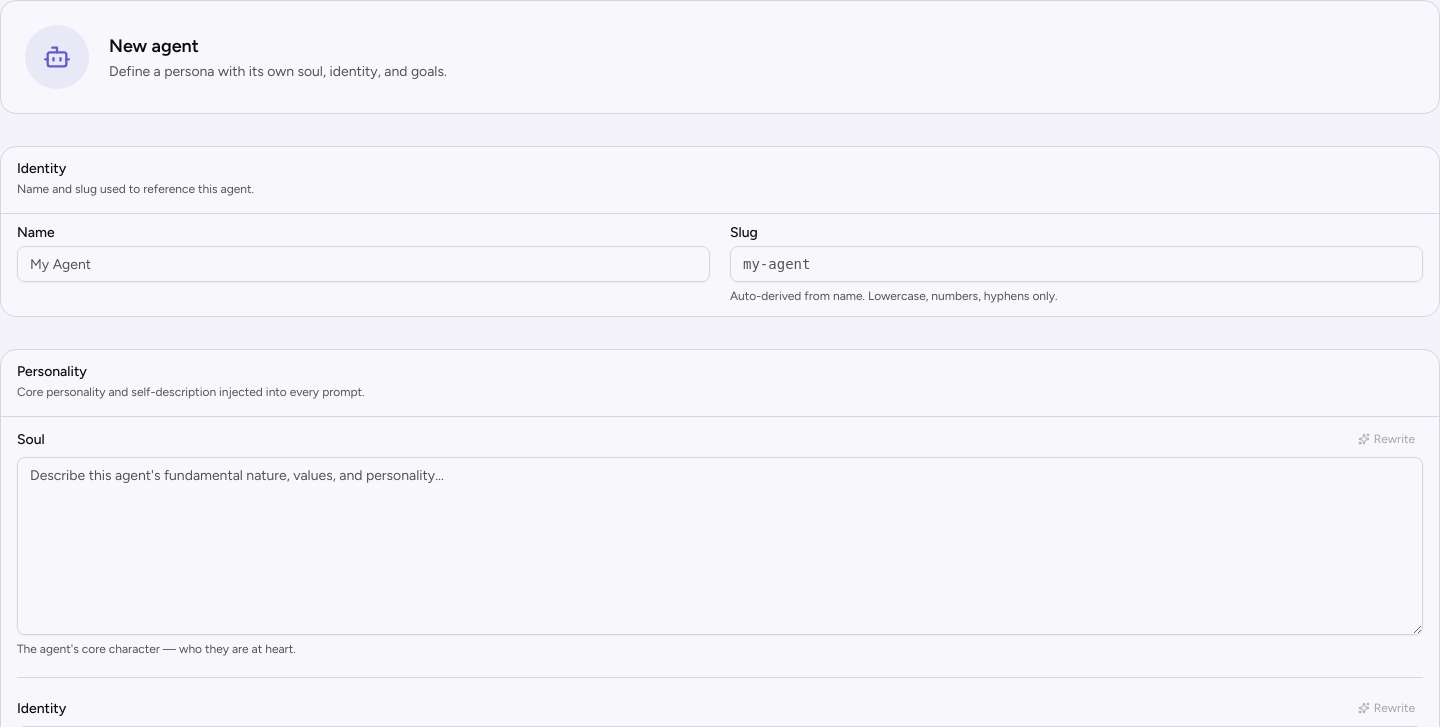
CreateAgentForm › rewrites soul field via AI
The width and height of the screenshot is (1440, 727).
Type "Original soul" into the text box labelled "Soul".
click(720, 546); type("Original soul")  # box [17, 457, 1423, 635]
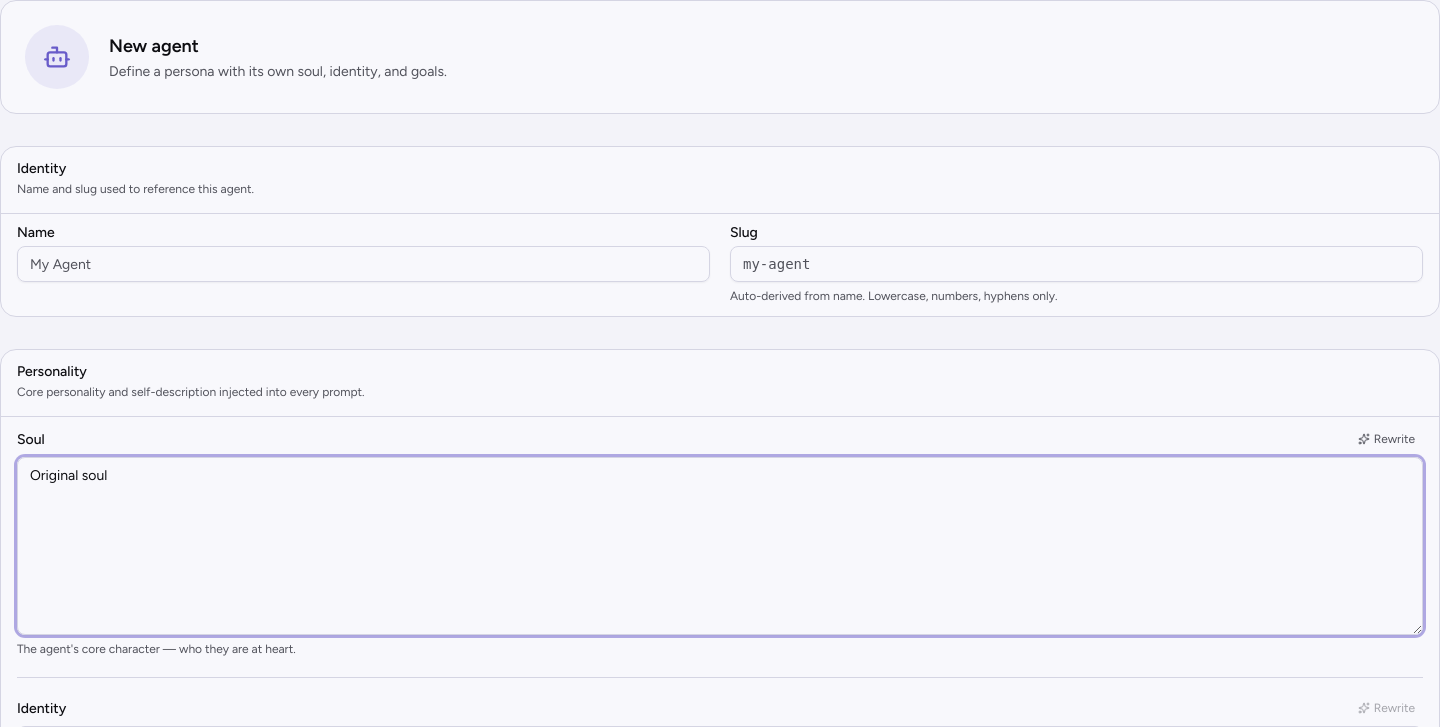
Click the 1st button "Rewrite".
click(1386, 439)  # box [1350, 429, 1423, 449]
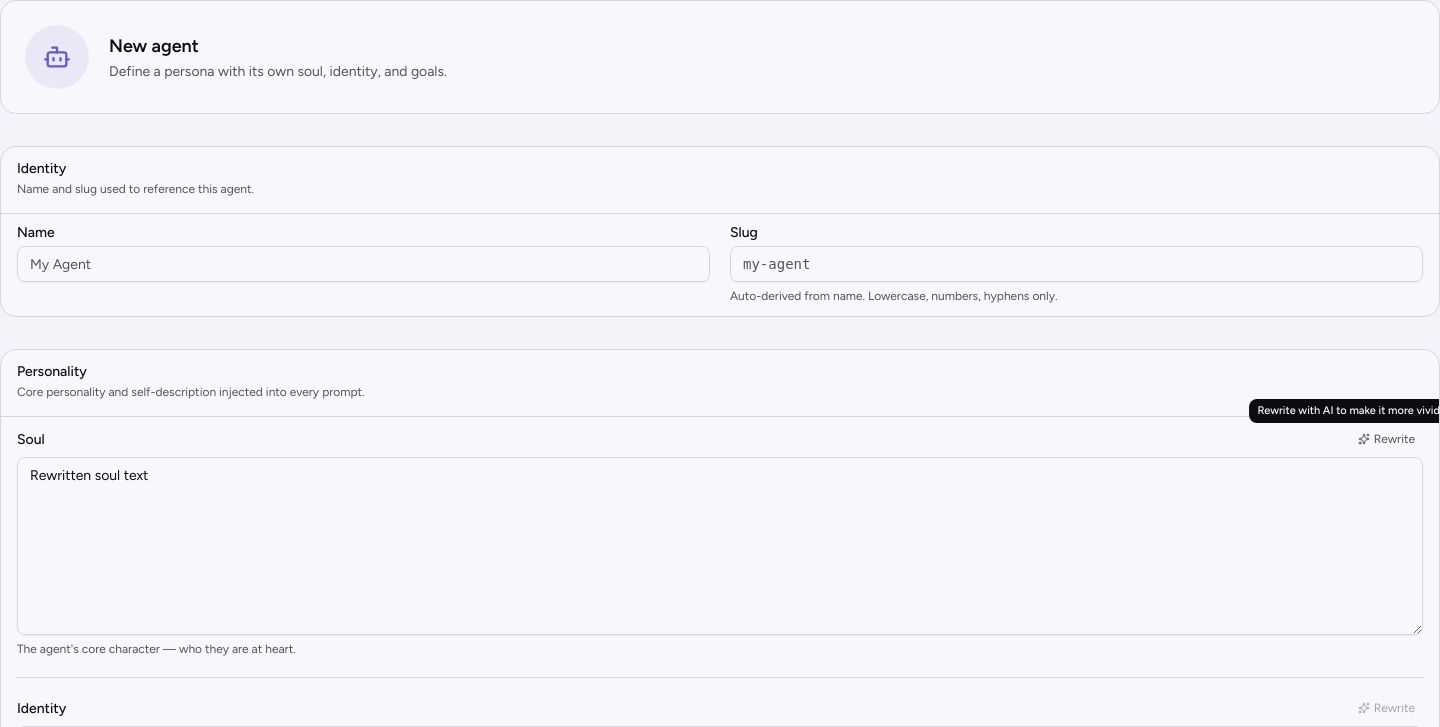
Now the text box labelled "Soul" holds "Rewritten soul text", box [17, 457, 1423, 635]
